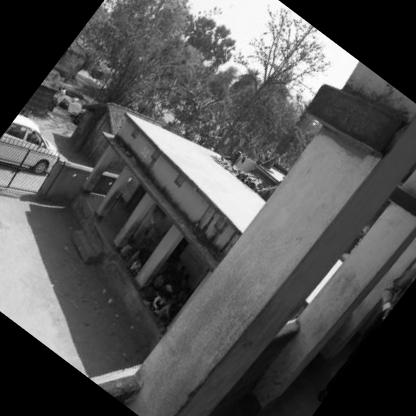car: (1, 105, 75, 196)
